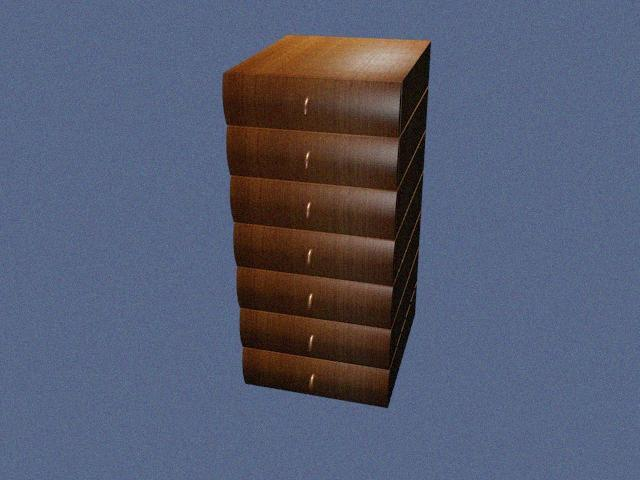cabinet_door: (225, 77, 399, 132), (229, 132, 397, 184), (232, 183, 395, 231), (236, 232, 393, 276), (238, 276, 392, 318), (242, 318, 390, 358), (244, 358, 388, 396)
handle: (299, 240, 319, 272), (300, 286, 319, 316), (299, 195, 318, 224), (299, 145, 317, 175), (301, 369, 322, 394), (301, 329, 320, 356), (299, 91, 314, 119)
